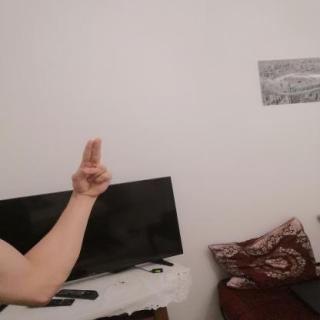TA: (64, 132, 116, 201)
